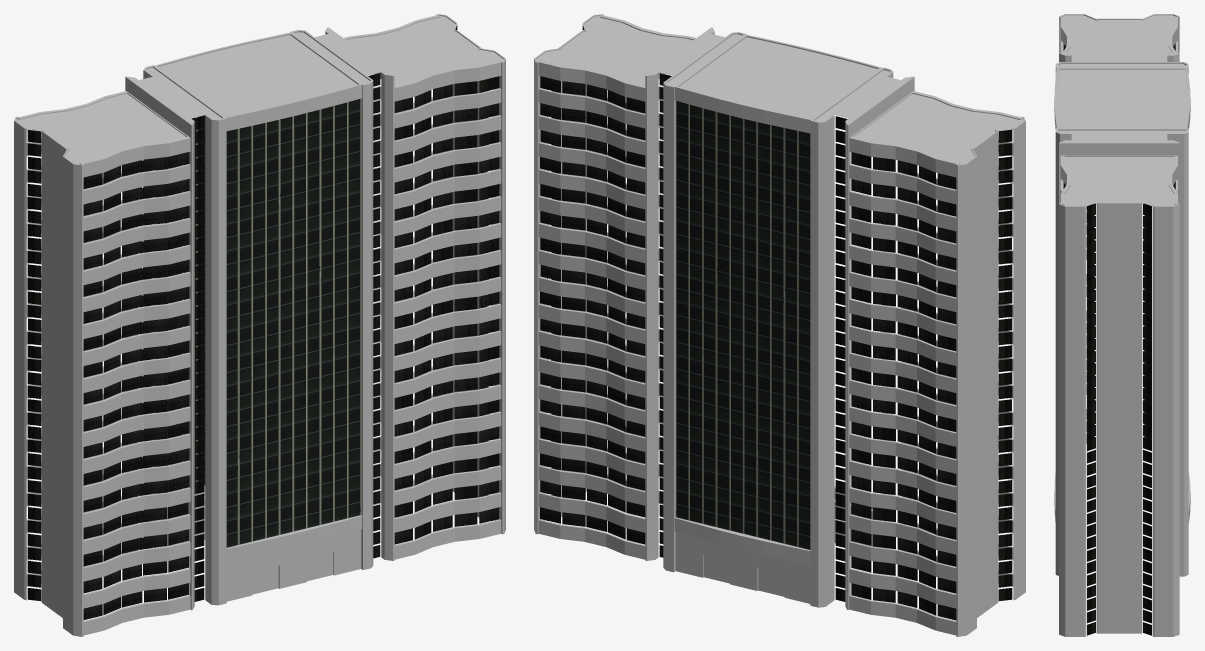
3 views of the same model, side by side, from view 1: azimuth 30°, elevation 25°; view 2: azimuth 150°, elevation 25°; view 3: azimuth 270°, elevation 25° (orthographic). The views are drawn at different scales.
Visible parts, largest first — view 1: BC-056; view 2: BC-056; view 3: BC-056.
Boxes of the visible parts, x1,y1,x2,y2 form: BC-056: (14, 14, 505, 636); BC-056: (534, 14, 1025, 636); BC-056: (1054, 14, 1190, 636).
Size of what is drawn, in the model's own units: 50.4 by 54 by 15.05.
